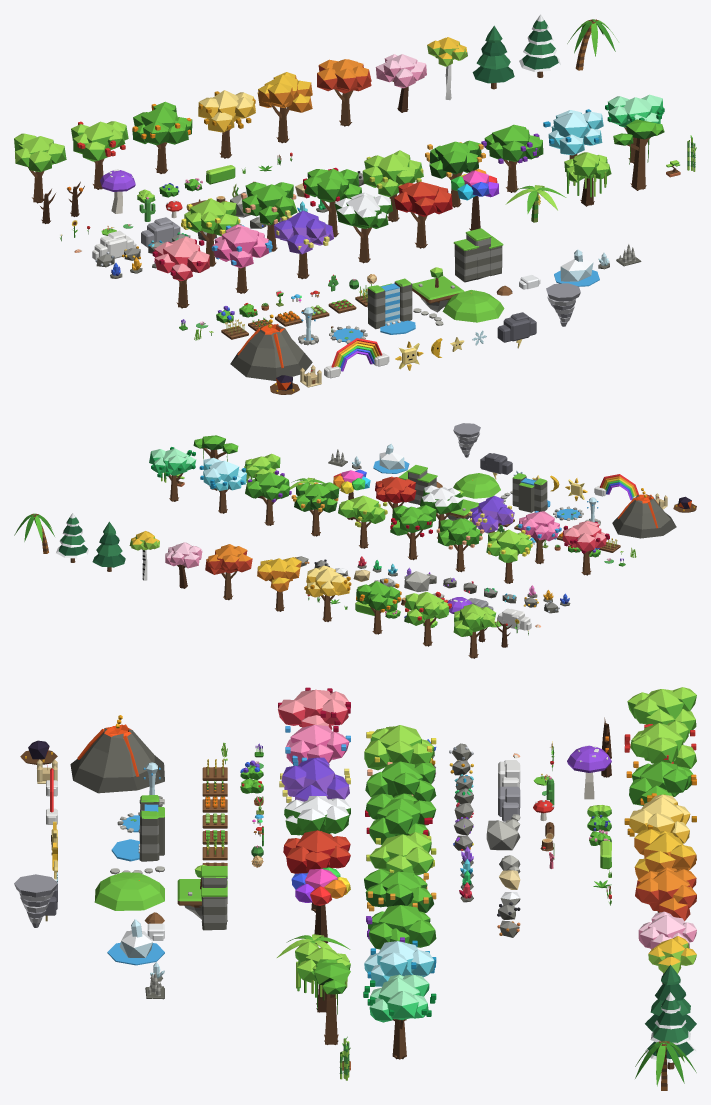
Rendered from Nature.fbx.
3 views of the same model, one above another, from view 1: azimuth 30°, elevation 25°; view 2: azimuth 150°, elevation 25°; view 3: azimuth 270°, elevation 25° (orthographic). The views are drawn at different scales.
Visible parts, largest first — view 1: Volcano, Waterfall, OrangeTree, Cliff, PearTree, GoldenTree, RubyTree, CandyTree, PlumTree, MagicTree, AppleTree, PeachTree (+28 smaller); view 2: Volcano, MangoTree, CherryTree, AppleTree, DiamondTree, GoldenTree, PeachTree, LemonTree, RedAutumnTree, EmeraldTree, OrangeTree, RubyTree (+26 smaller); view 3: Volcano, EmeraldTree, CherryTree, AppleTree, RedAutumnTree, LemonTree, MangoTree, MagicTree, RubyTree, MapleTree, PlumTree, GrassHill (+25 smaller).
Boxes of the visible parts, left/top/right/bottom form: Volcano: left=230, top=314, right=312, bottom=381; Waterfall: left=367, top=278, right=415, bottom=334; OrangeTree: left=132, top=101, right=192, bottom=173; Cliff: left=453, top=228, right=503, bottom=282; PearTree: left=362, top=150, right=423, bottom=222; GoldenTree: left=198, top=90, right=255, bottom=158; RubyTree: left=152, top=236, right=209, bottom=308; CandyTree: left=211, top=224, right=272, bottom=293; PlumTree: left=481, top=124, right=543, bottom=192; MagicTree: left=274, top=210, right=333, bottom=279; AppleTree: left=71, top=121, right=128, bottom=189; PeachTree: left=241, top=182, right=297, bottom=251; Volcano: left=612, top=488, right=676, bottom=538; MangoTree: left=291, top=482, right=339, bottom=536; CherryTree: left=390, top=505, right=436, bottom=560; AppleTree: left=404, top=591, right=451, bottom=646; DiamondTree: left=199, top=457, right=246, bottom=513; GoldenTree: left=304, top=565, right=351, bottom=621; PeachTree: left=436, top=518, right=484, bottom=572; LemonTree: left=486, top=529, right=532, bottom=583; RedAutumnTree: left=205, top=544, right=252, bottom=600; EmeraldTree: left=149, top=447, right=196, bottom=501; OrangeTree: left=356, top=579, right=401, bottom=634; RubyTree: left=562, top=521, right=609, bottom=575; Volcano: left=70, top=715, right=164, bottom=793; EmeraldTree: left=363, top=974, right=436, bottom=1059; CherryTree: left=365, top=793, right=436, bottom=844; AppleTree: left=624, top=720, right=696, bottom=768; RedAutumnTree: left=635, top=867, right=696, bottom=920; LemonTree: left=364, top=725, right=436, bottom=770; MangoTree: left=364, top=869, right=436, bottom=912; MagicTree: left=279, top=757, right=350, bottom=802; RubyTree: left=278, top=687, right=350, bottom=732; MapleTree: left=283, top=830, right=350, bottom=912; PlumTree: left=366, top=905, right=436, bottom=949; GrassHill: left=94, top=872, right=164, bottom=910.
Size of the model in its own units: 135 by 19.26 by 109.
Materials: 1 (1 with a texture image).
